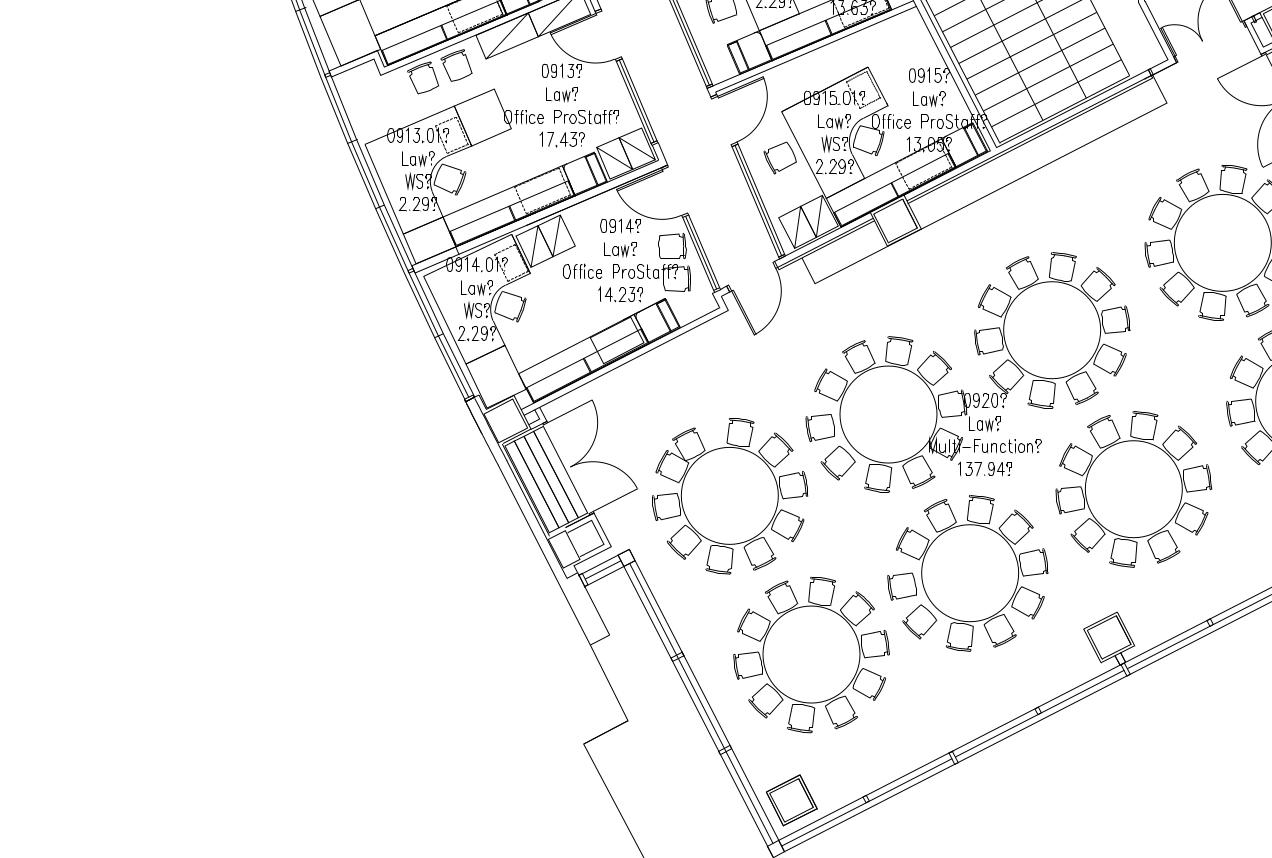door: (705, 71, 776, 147), (612, 159, 683, 235), (730, 269, 792, 346), (548, 399, 615, 467), (572, 448, 639, 516), (550, 9, 622, 72), (1157, 1, 1229, 63), (1211, 52, 1272, 109)
